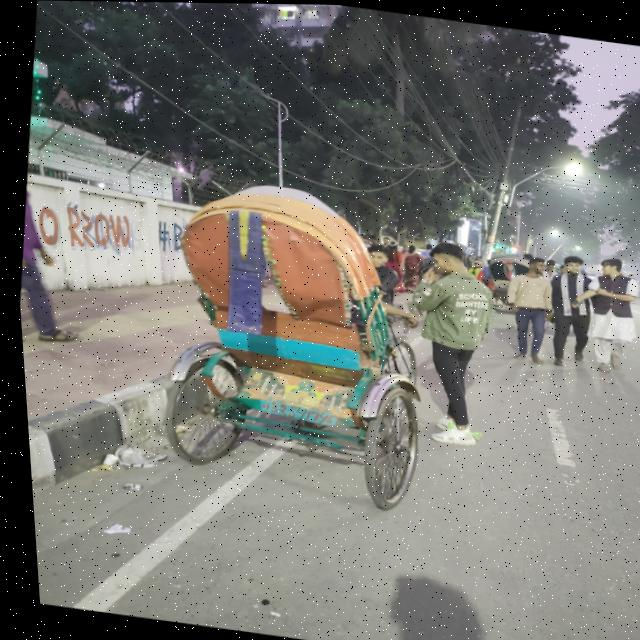rikshaw: (135, 159, 530, 577)
